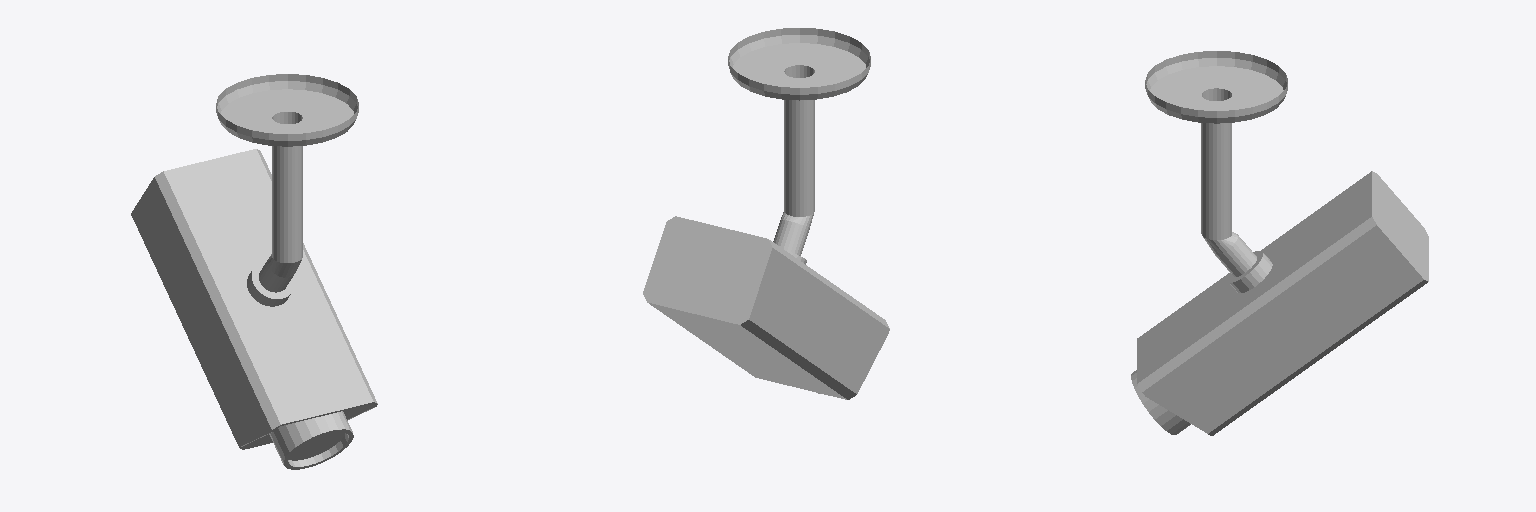
File: PlaceHolderCamera.obj
The picture shows the model from 3 angles: view 1: azimuth 30°, elevation 25°; view 2: azimuth 150°, elevation 25°; view 3: azimuth 270°, elevation 25°; orthographic projection.
Visible parts, largest first — view 1: Camera; view 2: Camera; view 3: Camera.
Boxes of the visible parts, x1,y1,x2,y2 form: Camera: [131, 74, 377, 469]; Camera: [643, 28, 889, 399]; Camera: [1131, 51, 1428, 435].
Bounding box in the file's own units: 0.2041 × 0.5509 × 0.4251.